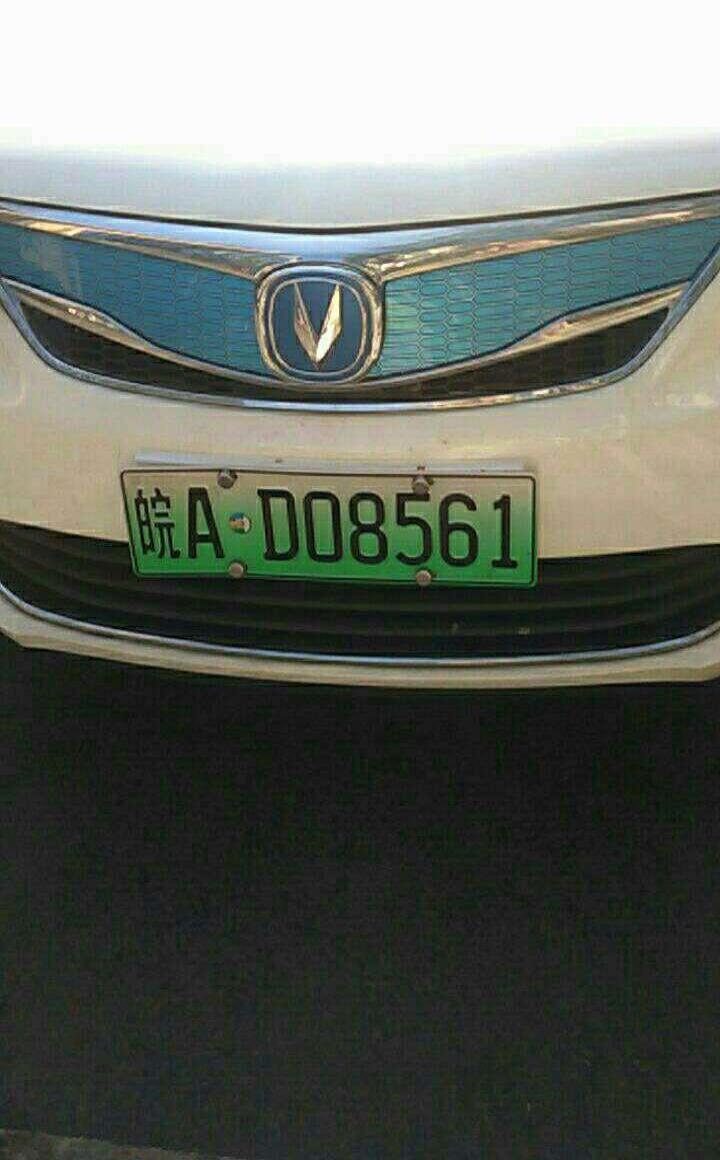car_id: (117, 472, 536, 578)
